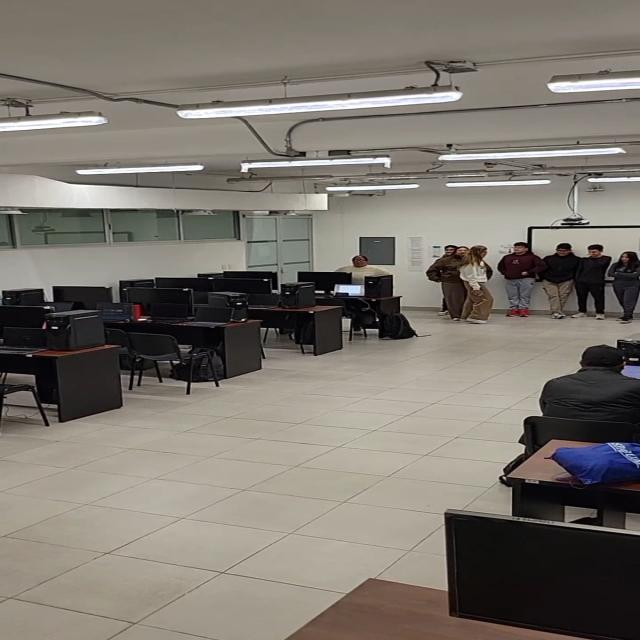Persona: (505, 240, 540, 314), (576, 243, 608, 315), (545, 240, 574, 316), (437, 246, 468, 316), (467, 246, 493, 318), (614, 249, 638, 317), (339, 256, 391, 281)
